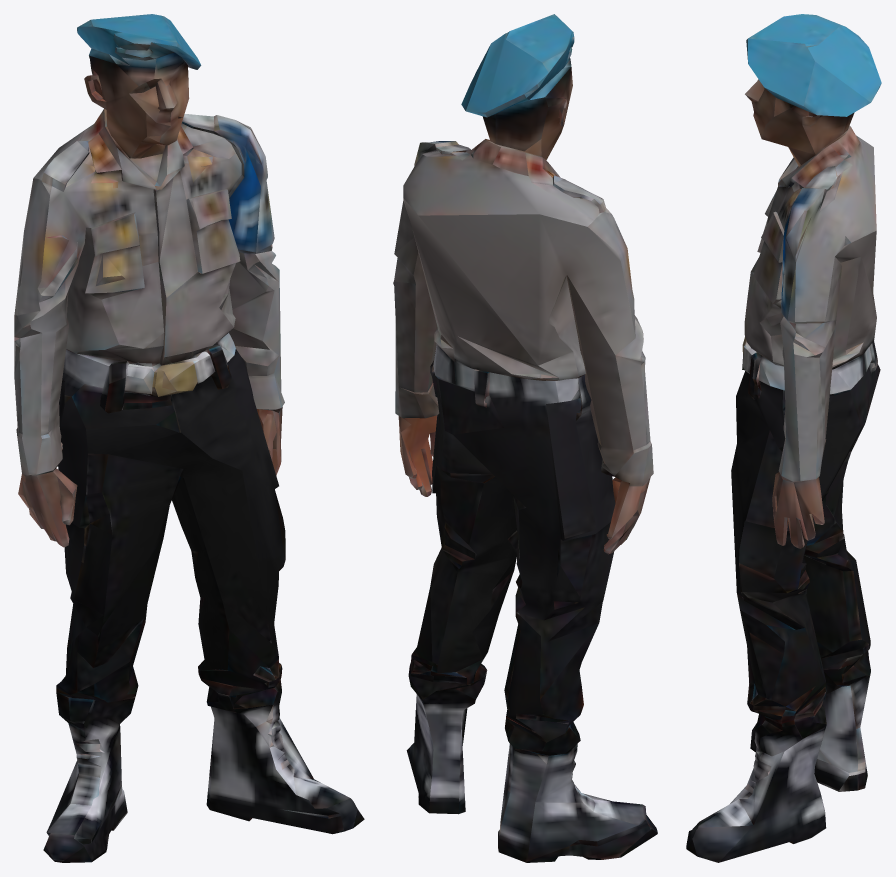
Rendered from propam_idle_lod2.glb.
The picture shows the model from 3 angles, left to right: view 1: azimuth 30°, elevation 25°; view 2: azimuth 150°, elevation 25°; view 3: azimuth 270°, elevation 25°; orthographic projection. The views are drawn at different scales.
Visible parts, largest first — view 1: tripo_node_12765c1b; view 2: tripo_node_12765c1b; view 3: tripo_node_12765c1b.
Part boxes in pixels (bbox=[...]): tripo_node_12765c1b: bbox=[14, 14, 364, 862]; tripo_node_12765c1b: bbox=[393, 14, 657, 862]; tripo_node_12765c1b: bbox=[686, 14, 881, 862].
Bounding box in the file's own units: 37.36 × 99.01 × 22.99.
1 material, 1 textured.
